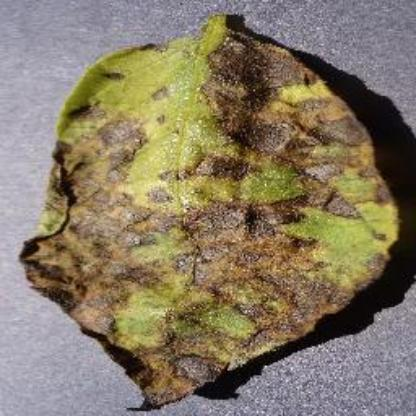Early-Blight: (20, 10, 402, 412)
